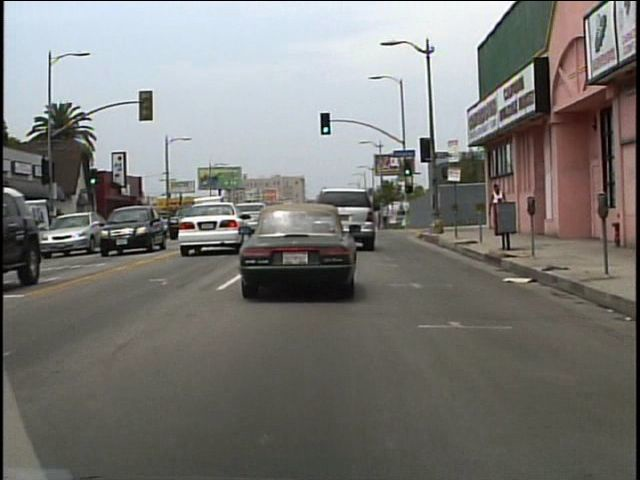person: (486, 182, 509, 238)
